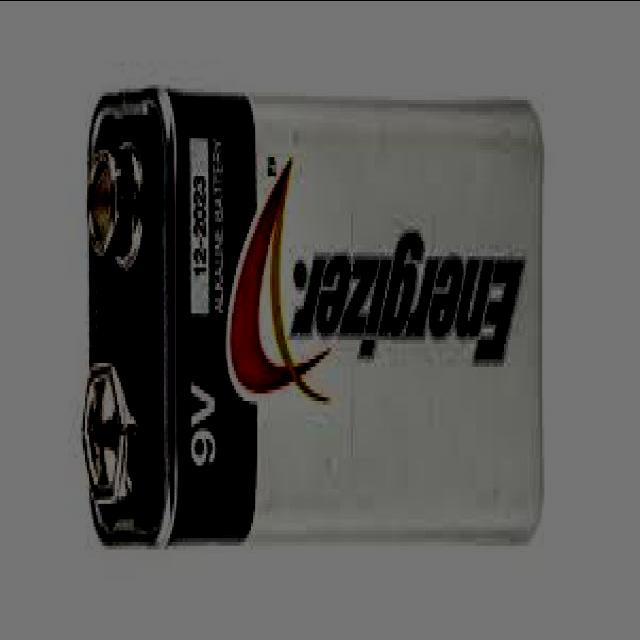9V: (87, 95, 544, 537)
